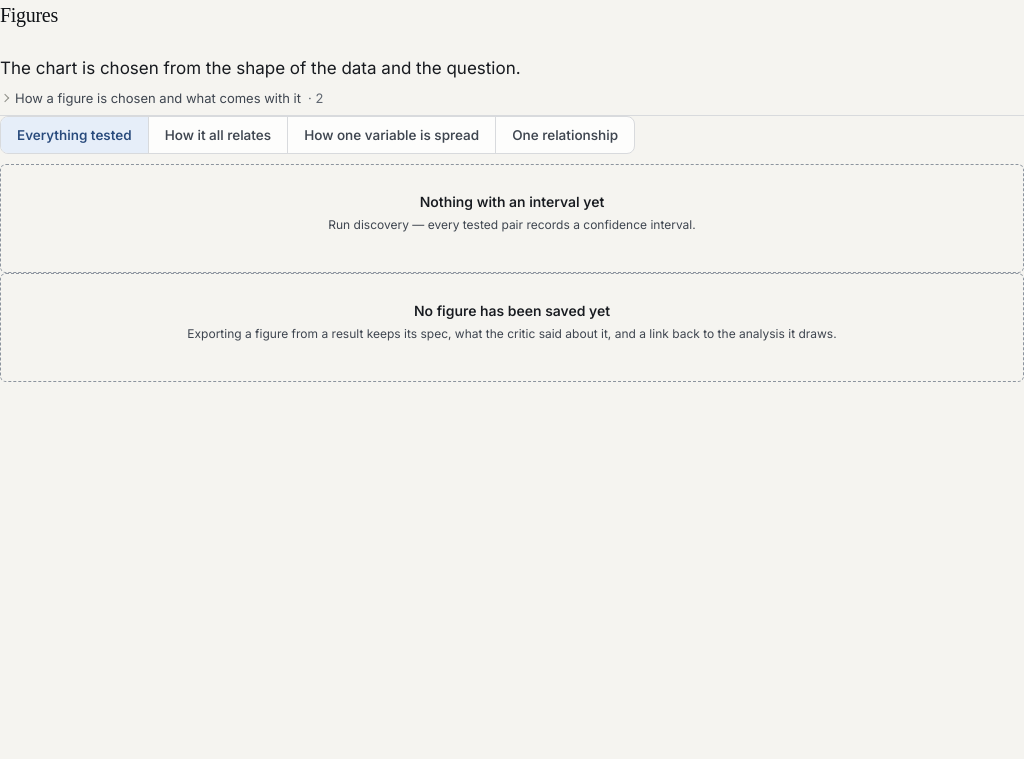
the picker › does not offer a run with no estimate to plot
The image size is (1024, 759).
What coordinates should you click on to do the following:
click the button "One relationship"
I would click on:
 (565, 135)
Its box is [496, 117, 634, 153].
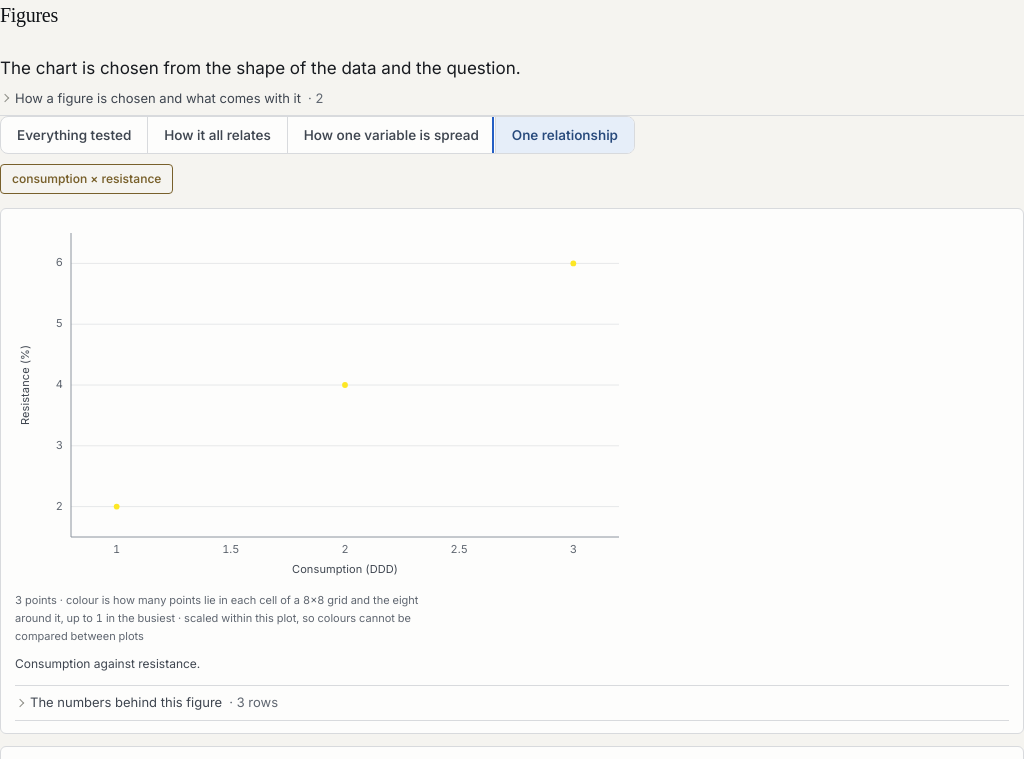
Expected: the button "consumption × resistance" is shown, [0, 164, 173, 194]
